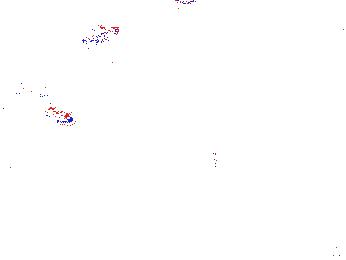red belly glassfish: (21, 87, 75, 125), (82, 25, 120, 50)
redtail glassfish: (208, 138, 225, 183)
siberian prawn: (31, 221, 106, 256)
